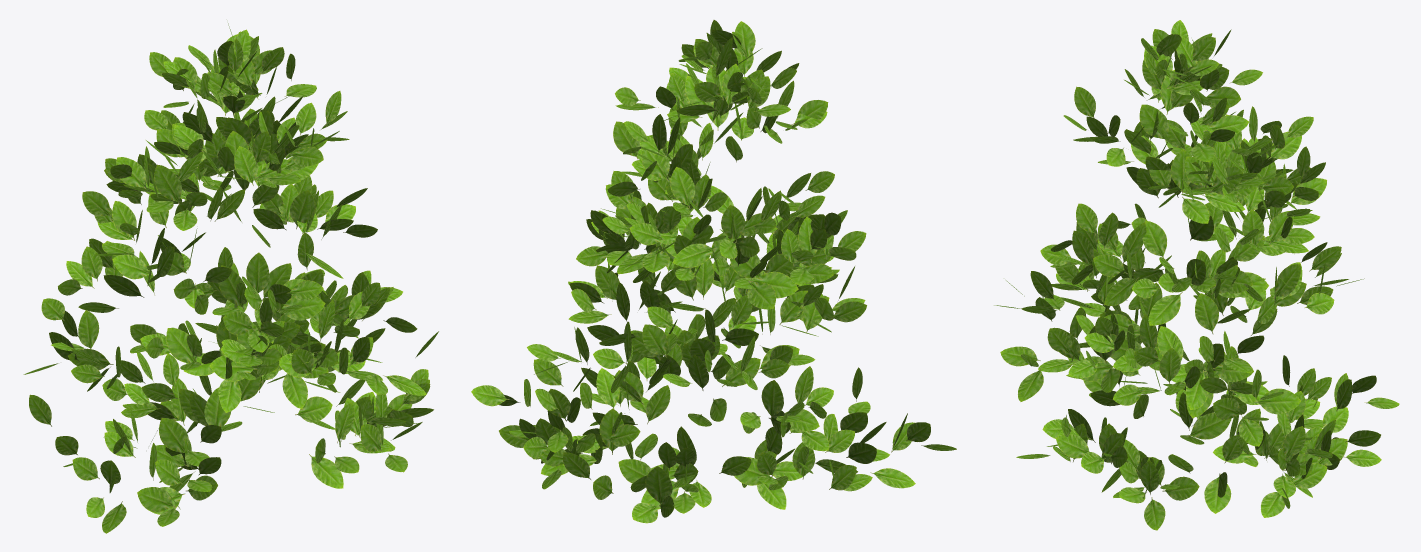
The model's file is Bush_Leaves01.fbx.
The picture shows the model from 3 angles, left to right: view 1: azimuth 30°, elevation 25°; view 2: azimuth 150°, elevation 25°; view 3: azimuth 270°, elevation 25°; orthographic projection. The views are drawn at different scales.
Parts seen in each view (by area): view 1: Bush_Leaves01; view 2: Bush_Leaves01; view 3: Bush_Leaves01.
Boxes of the visible parts, bbox=[...] form: Bush_Leaves01: bbox=[23, 23, 438, 533]; Bush_Leaves01: bbox=[471, 20, 956, 523]; Bush_Leaves01: bbox=[994, 20, 1399, 530].
Size of the model in its own units: 57.53 by 70.06 by 59.08.
